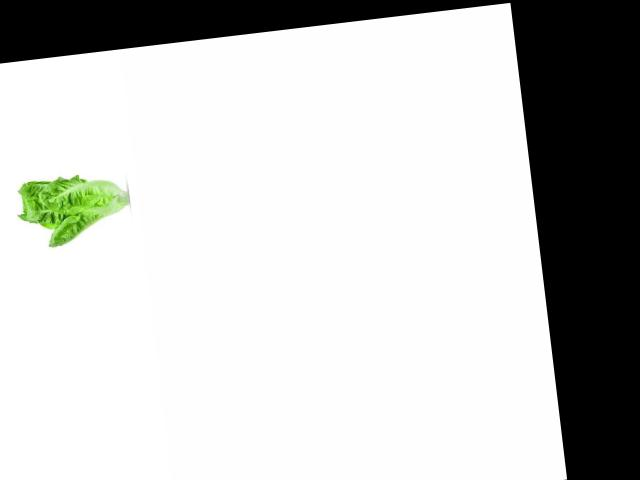lettuce: (12, 165, 129, 251)
